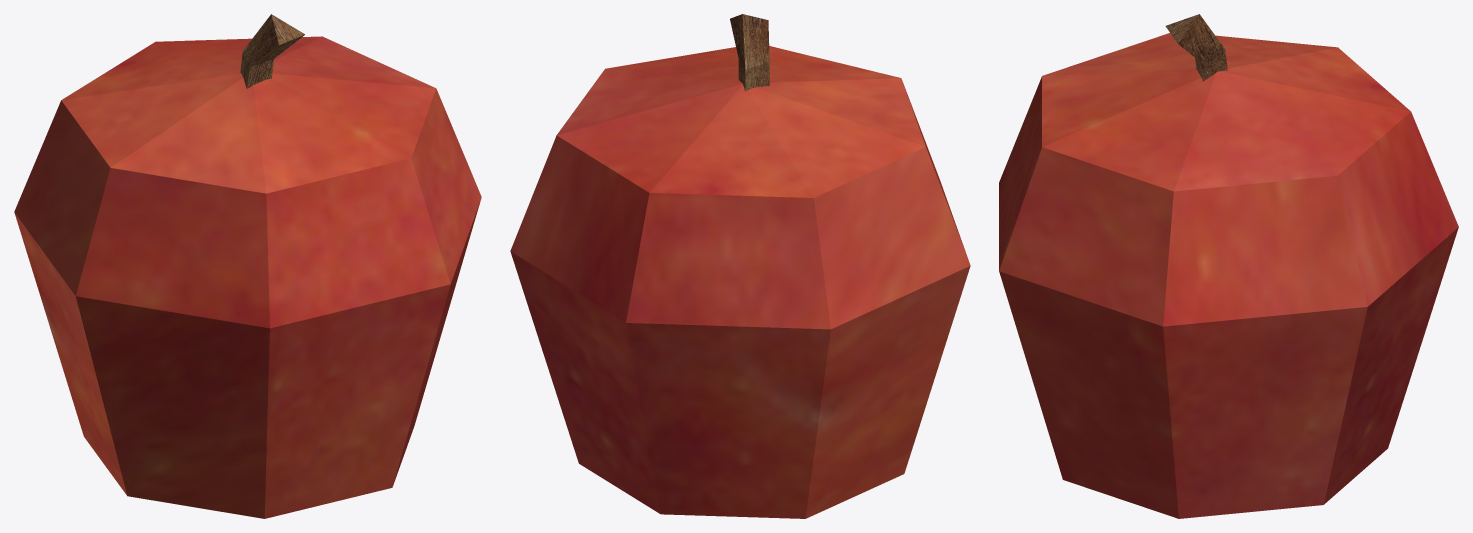
File: apple.glb
3 views of the same model, side by side, from view 1: azimuth 30°, elevation 25°; view 2: azimuth 150°, elevation 25°; view 3: azimuth 270°, elevation 25° (orthographic). The views are drawn at different scales.
Parts seen in each view (by area): view 1: Apple, Stem.001; view 2: Apple, Stem.001; view 3: Apple, Stem.001.
Part boxes in pixels (box(x1,y1,x2,y2)): Apple: box(14, 36, 481, 518); Stem.001: box(240, 14, 304, 88); Apple: box(510, 46, 970, 518); Stem.001: box(730, 14, 769, 91); Apple: box(999, 33, 1458, 518); Stem.001: box(1165, 14, 1227, 81).
Bounding box in the file's own units: 0.9749 × 1.08 × 0.9505.
Materials: 2 (2 with a texture image).
